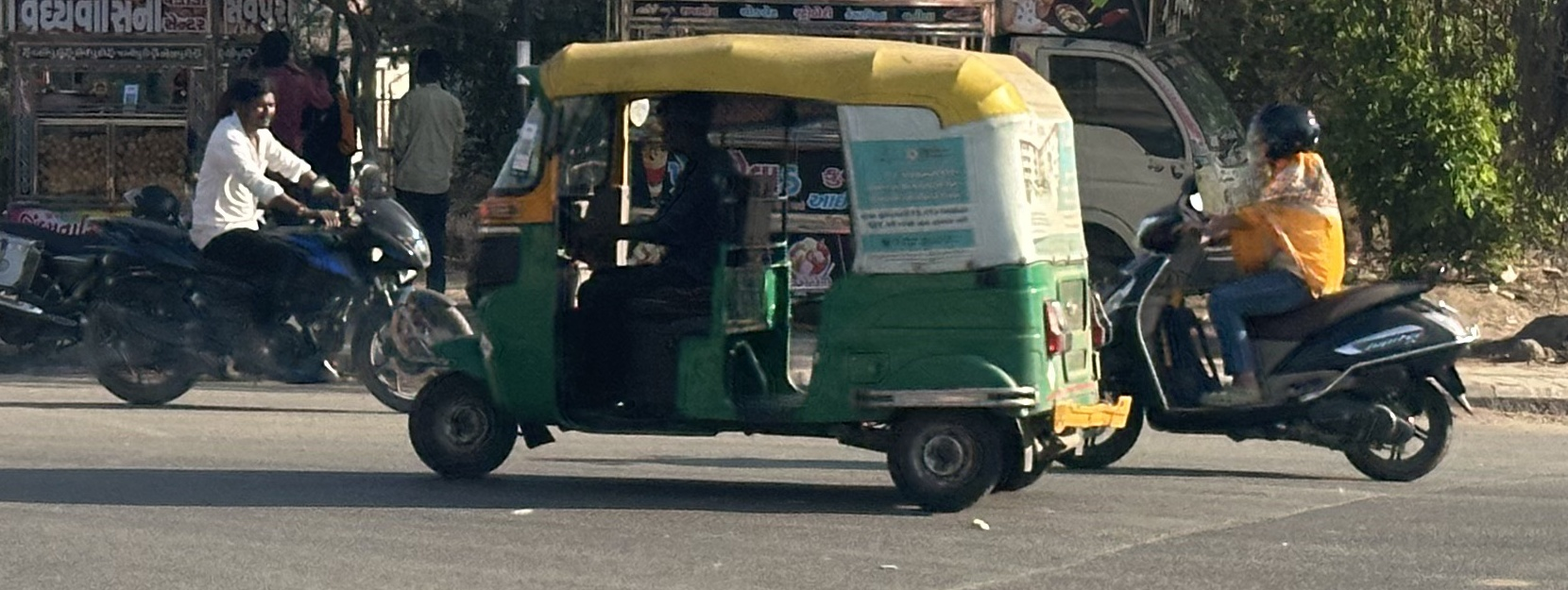BikeWithRider: (1029, 88, 1484, 487), (61, 69, 492, 417)
Helmet: (1238, 95, 1327, 173)
NoHelmet: (230, 76, 280, 132)
